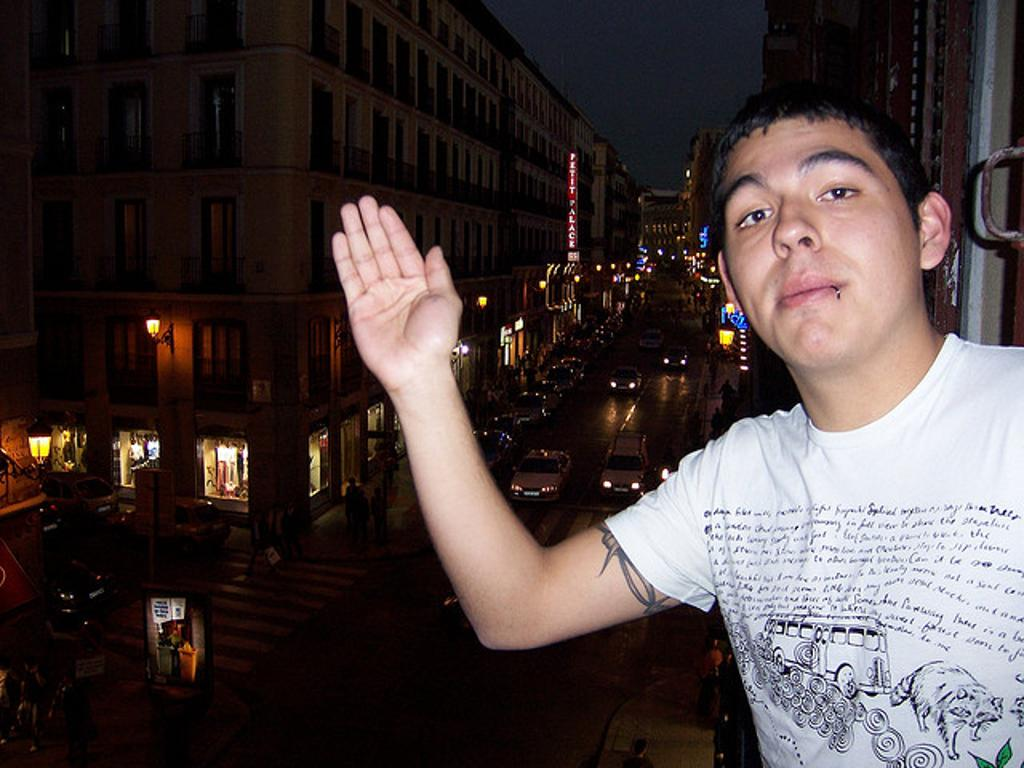face: (726, 114, 916, 368)
